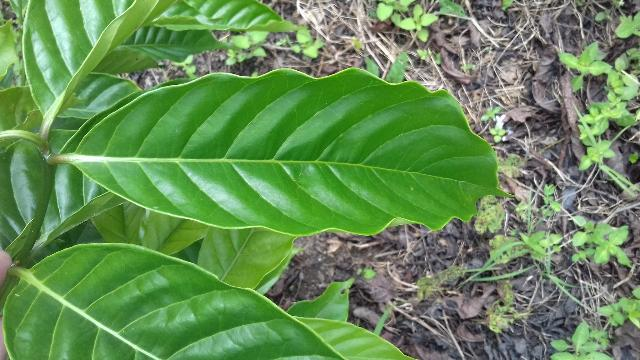healthy: (51, 68, 518, 236)
